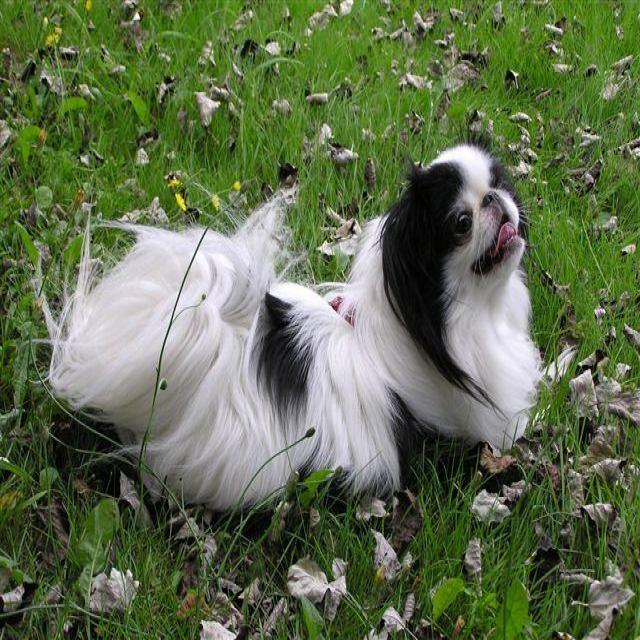husky: (29, 130, 539, 505)
